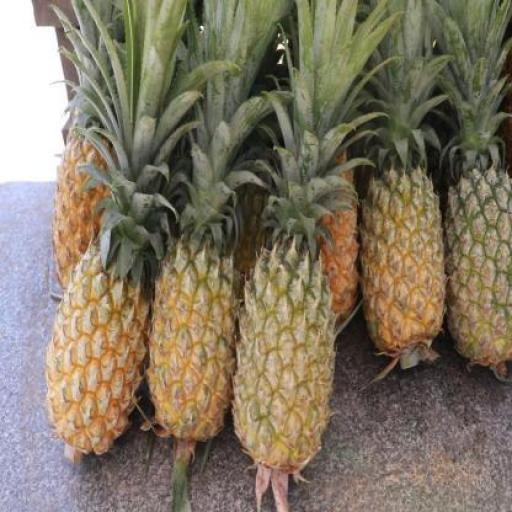------------------------------: (234, 253, 335, 469)
Pineapple - v8 v1: (47, 247, 154, 459), (147, 248, 239, 446), (360, 174, 446, 354), (53, 135, 125, 314)
